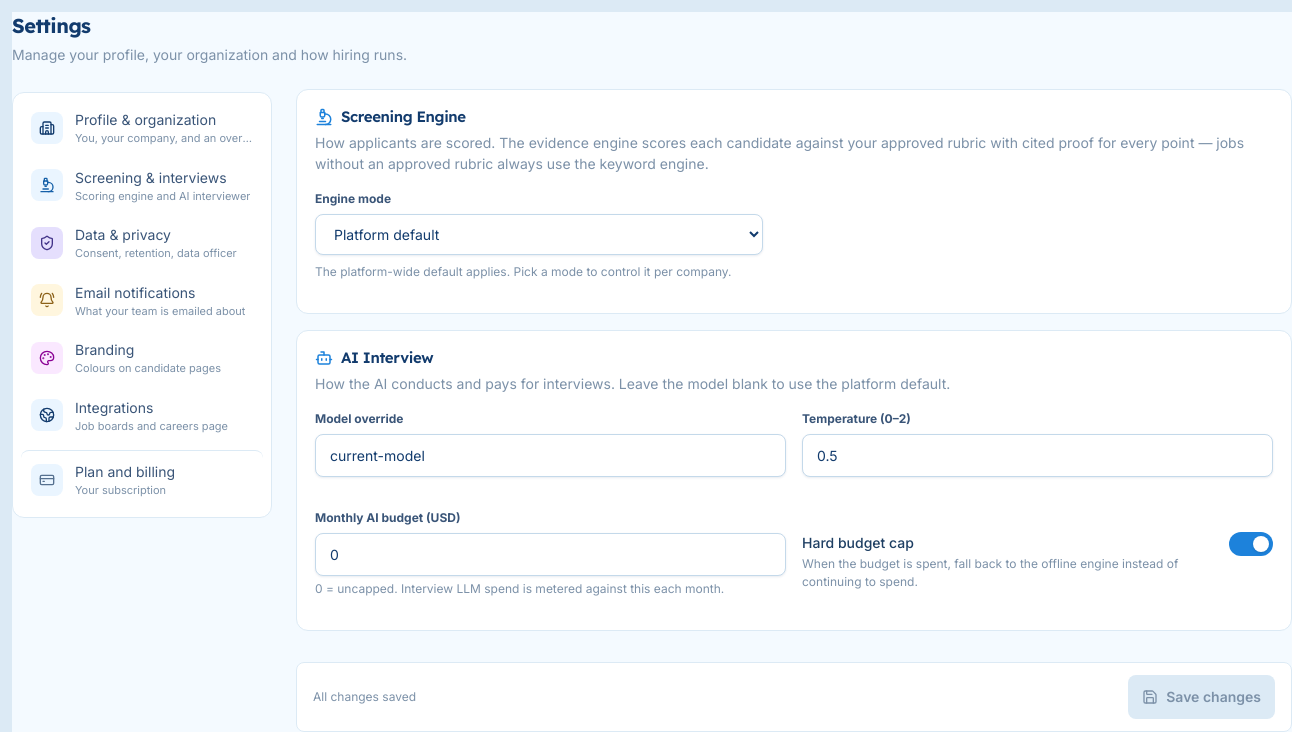
Test case: discards edits without writing to the server
Replace the text in the field labelled "Model override" with "temporary-model": (550, 455) [315,434,786,476]
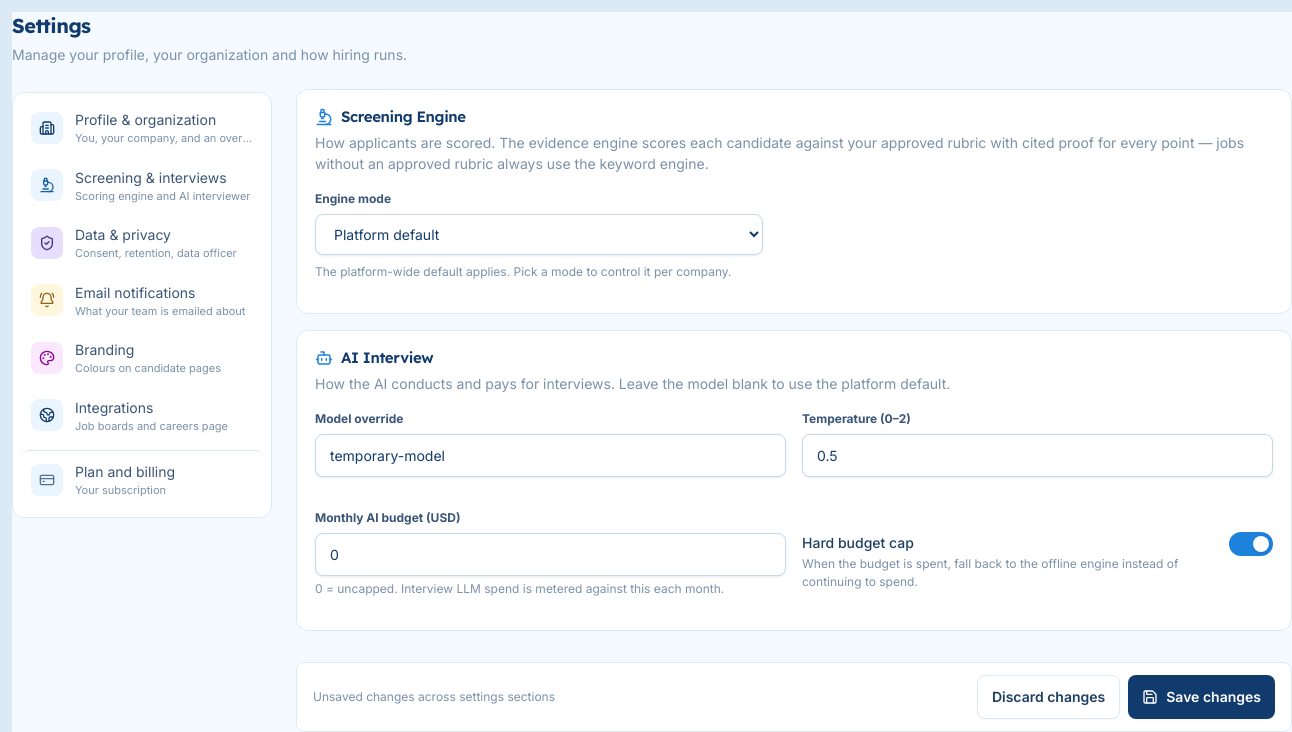
Click the button "Discard changes": (1049, 697) [977,675,1120,719]
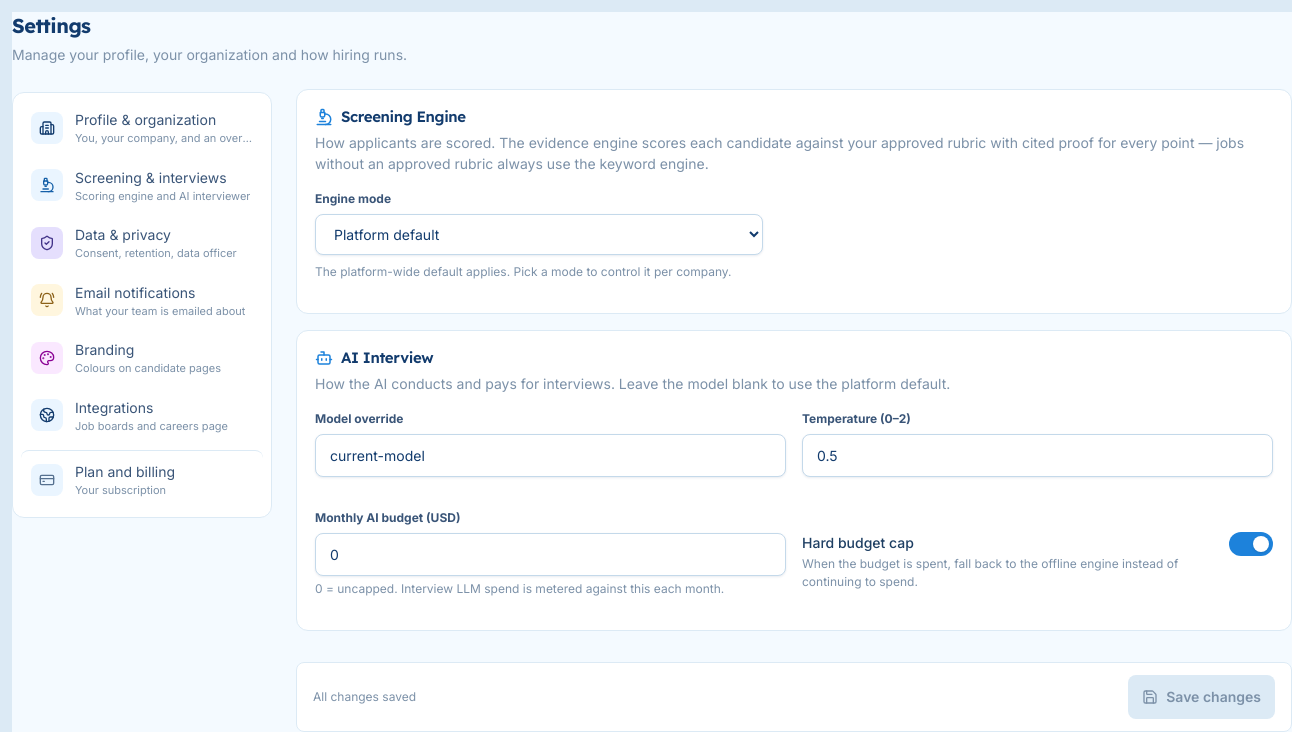
Expected: the field labelled "Model override" holds "current-model", [315,434,786,476]
